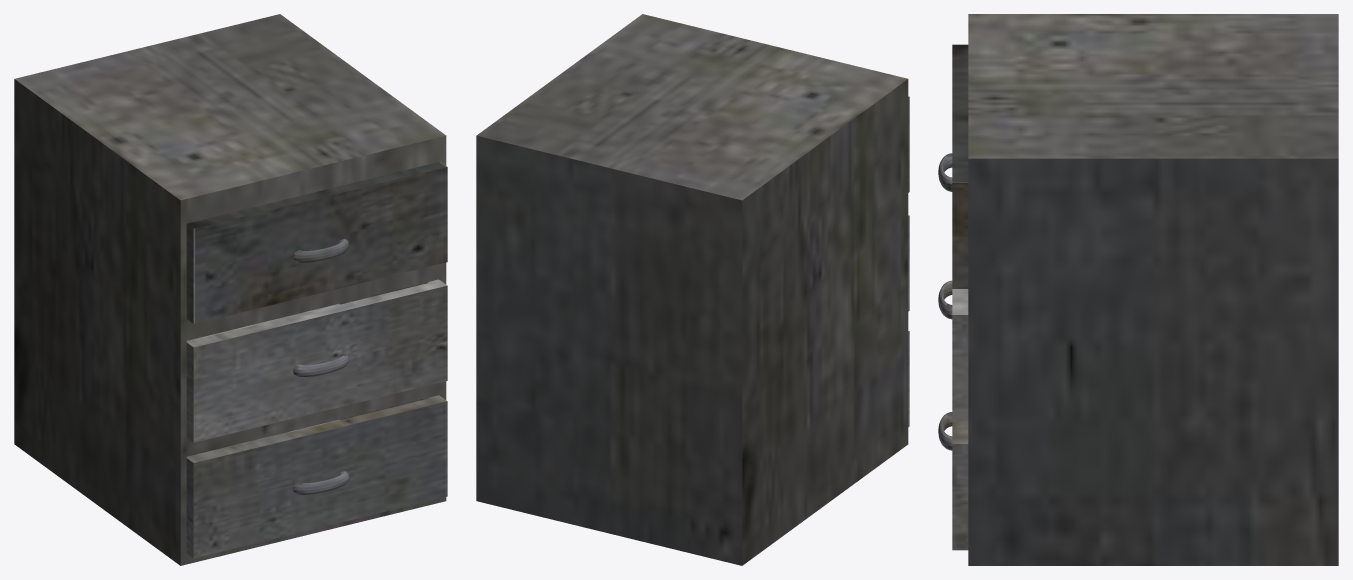
File: Hylly.fbx
The picture shows the model from 3 angles, left to right: view 1: azimuth 30°, elevation 25°; view 2: azimuth 150°, elevation 25°; view 3: azimuth 270°, elevation 25°; orthographic projection. The views are drawn at different scales.
Visible parts, largest first — view 1: Cube, Cube.003, Cube.004, Cube.001; view 2: Cube; view 3: Cube, Cube.001, Cube.003, Cube.004.
Boxes of the visible parts, <box> form: Cube: <box>14,14,446,565</box>; Cube.003: <box>186,279,447,442</box>; Cube.004: <box>186,395,447,558</box>; Cube.001: <box>186,161,447,323</box>; Cube: <box>476,14,908,565</box>; Cube: <box>968,14,1338,565</box>; Cube.001: <box>938,44,968,288</box>; Cube.003: <box>938,280,968,421</box>; Cube.004: <box>938,412,968,550</box>.
Bounding box in the file's own units: 51.73 × 67.99 × 60.55.
